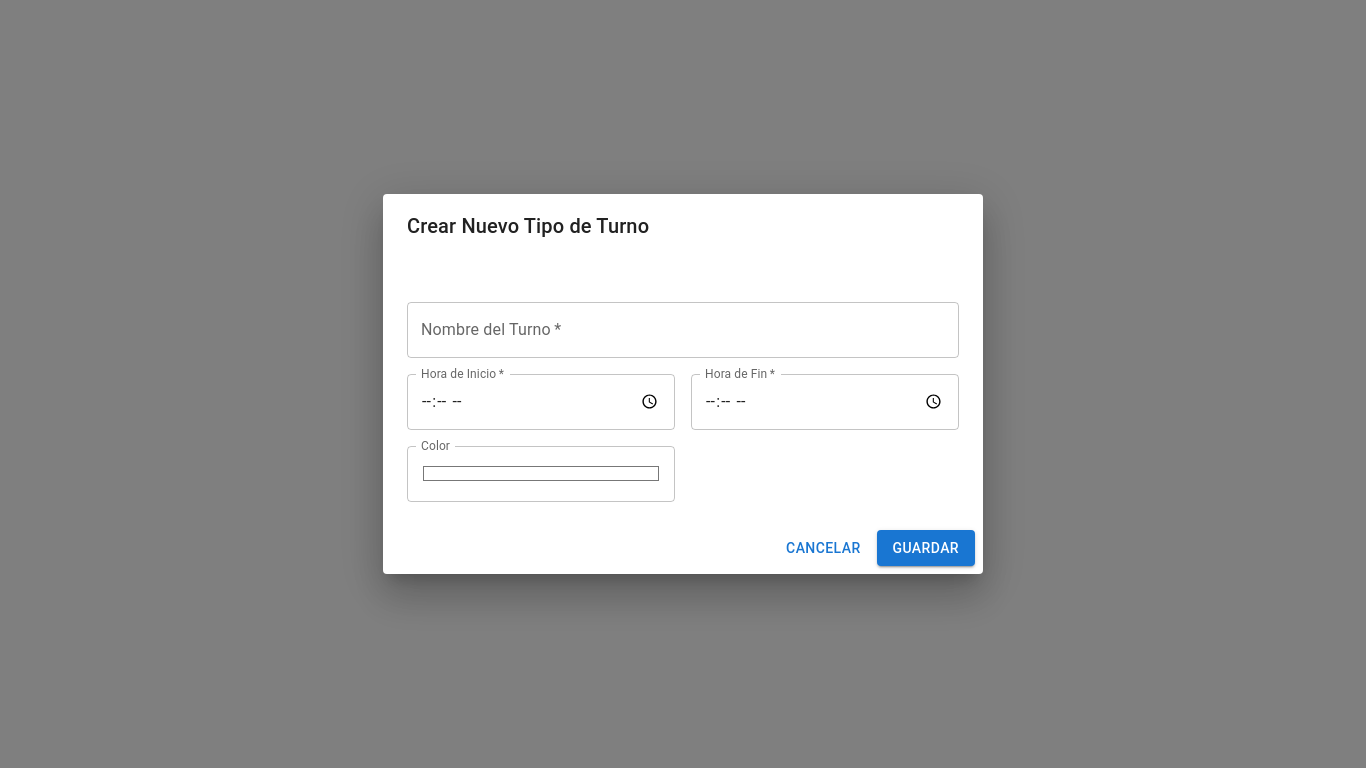
Scenario: TipoTurnoForm › debería mostrar errores de validación si los campos están vacíos al enviar
Click the button "Guardar".
click(926, 548)  # box [876,530,975,566]
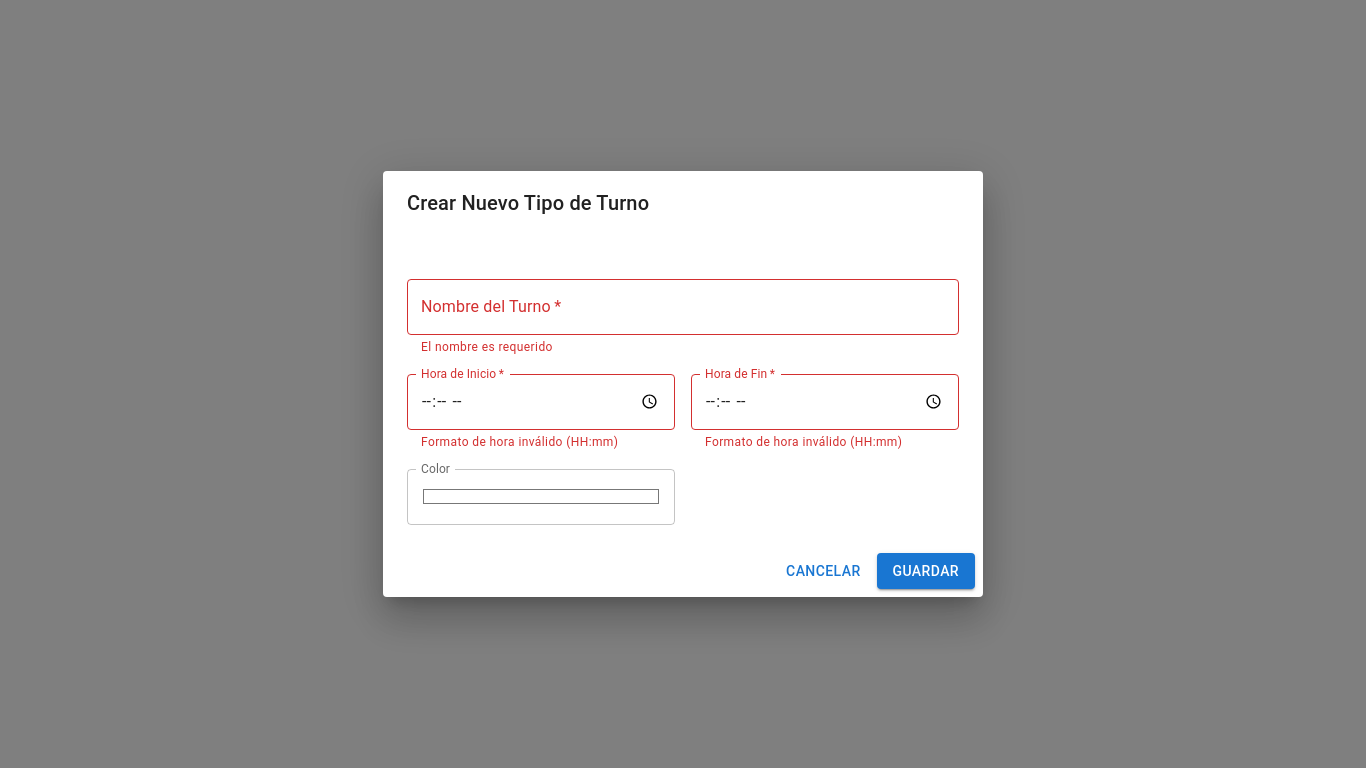
Now the text "El nombre es requerido" is shown, box [421,340,553,354]
